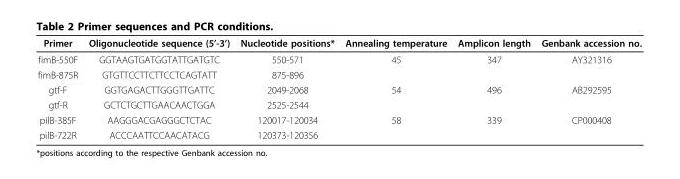table: (37, 36, 640, 140)
table column: (82, 36, 234, 140), (339, 36, 451, 140), (234, 36, 339, 140), (535, 36, 640, 140), (451, 36, 535, 140), (37, 36, 82, 140)
table column header: (37, 36, 640, 50)
table row: (37, 50, 640, 66), (37, 96, 640, 112), (37, 66, 640, 81), (37, 81, 640, 96), (37, 112, 640, 127), (37, 36, 640, 50), (37, 127, 640, 140)
